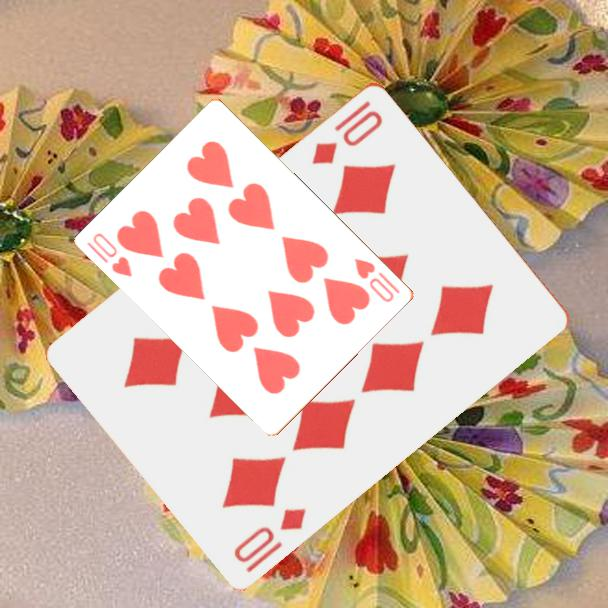d10: (230, 503, 309, 575), (308, 96, 386, 167)
h10: (351, 254, 404, 305), (83, 229, 136, 280)
